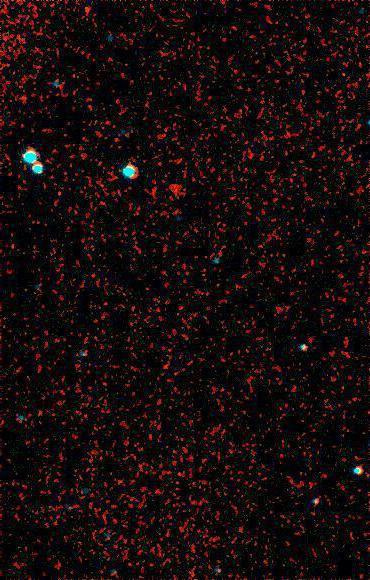star: (72, 0, 102, 24)
